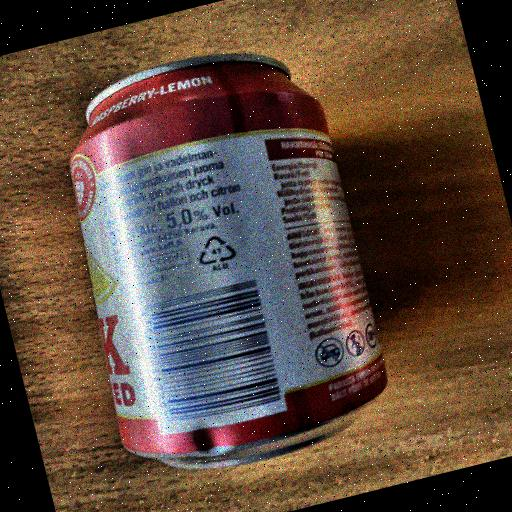koff: (23, 6, 444, 496)
